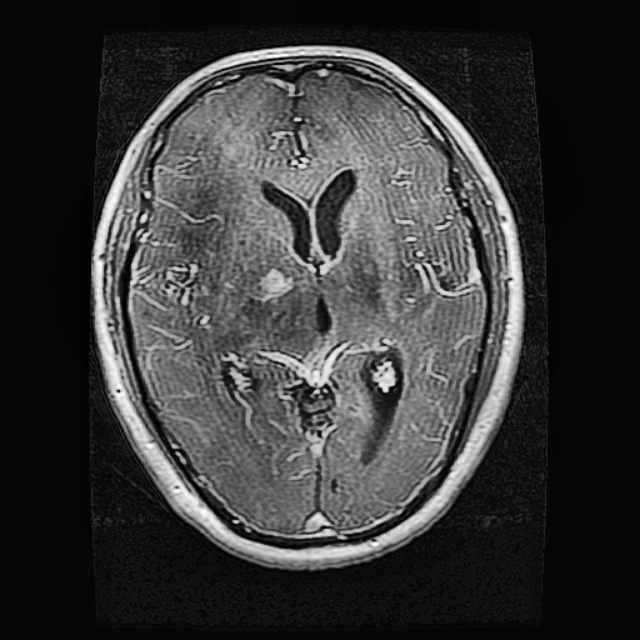Pituitary: (247, 267, 292, 302)
